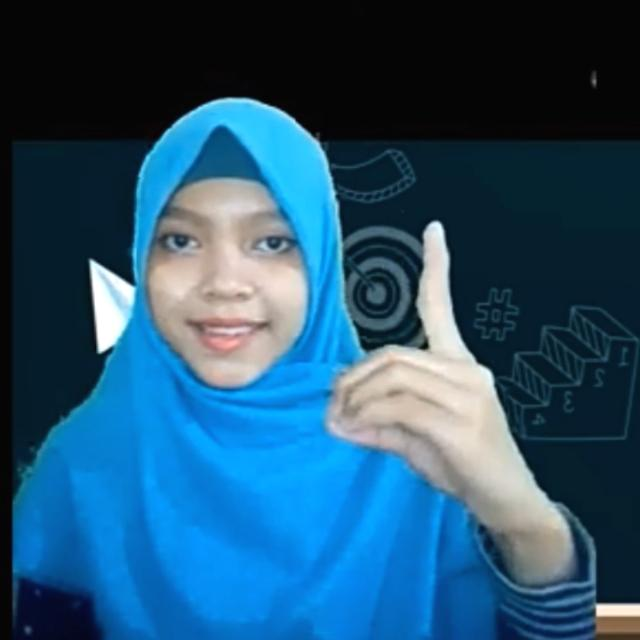D: (325, 218, 517, 500)
